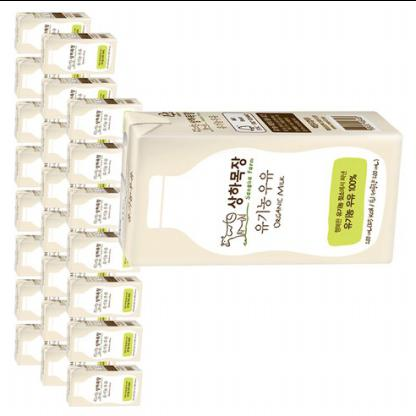tetra: (105, 96, 413, 274)
